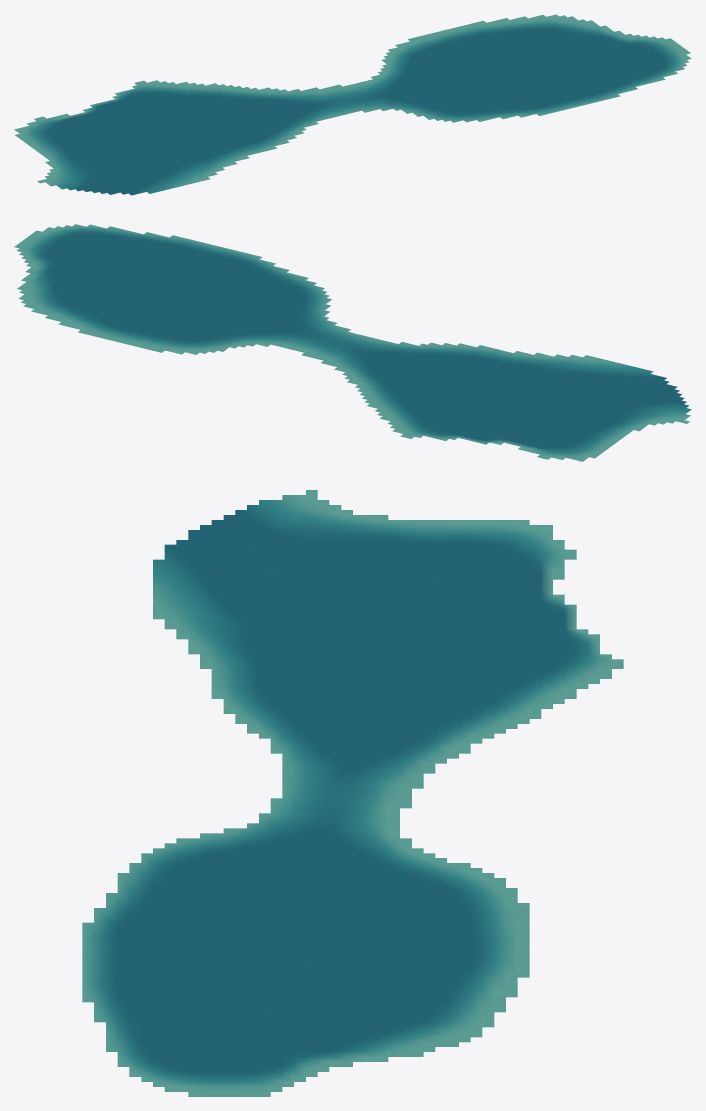
Rendered from ISL2_FallsPool.fbx.
3 renders of one model, top to bottom at view 1: azimuth 30°, elevation 25°; view 2: azimuth 150°, elevation 25°; view 3: azimuth 270°, elevation 25°, orthographic. The views are drawn at different scales.
Visible parts, largest first — view 1: ISL2_FallsPool.001; view 2: ISL2_FallsPool.001; view 3: ISL2_FallsPool.001.
Part boxes in pixels (bbox=[...]): ISL2_FallsPool.001: bbox=[14, 14, 691, 195]; ISL2_FallsPool.001: bbox=[14, 224, 691, 461]; ISL2_FallsPool.001: bbox=[82, 490, 623, 1096].
Size of the model in its own units: 61 by 0 by 23.
